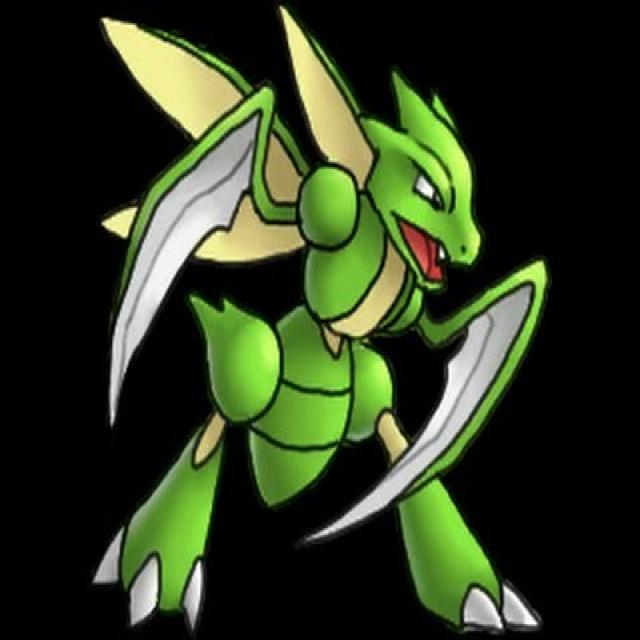Scyther: (112, 58, 534, 606)
